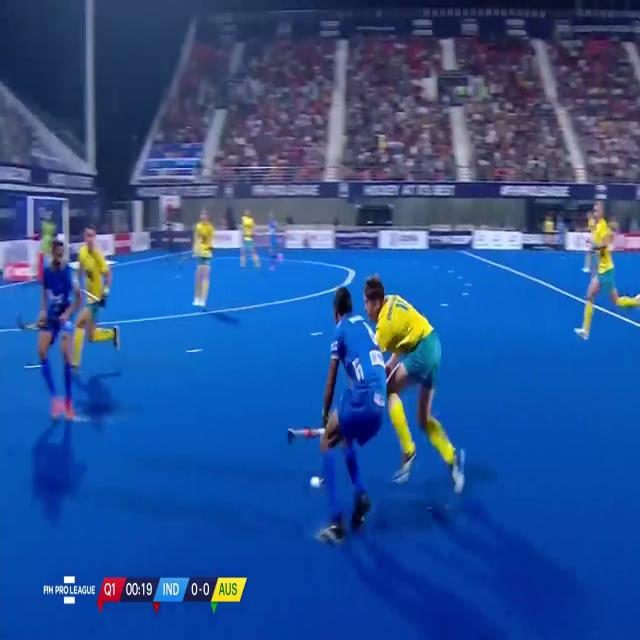ball: (302, 464, 326, 498)
